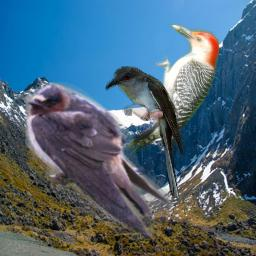Cuckoo: (105, 66, 185, 198)
Swallow: (23, 82, 173, 240)
Woodpecker: (122, 19, 219, 160)
